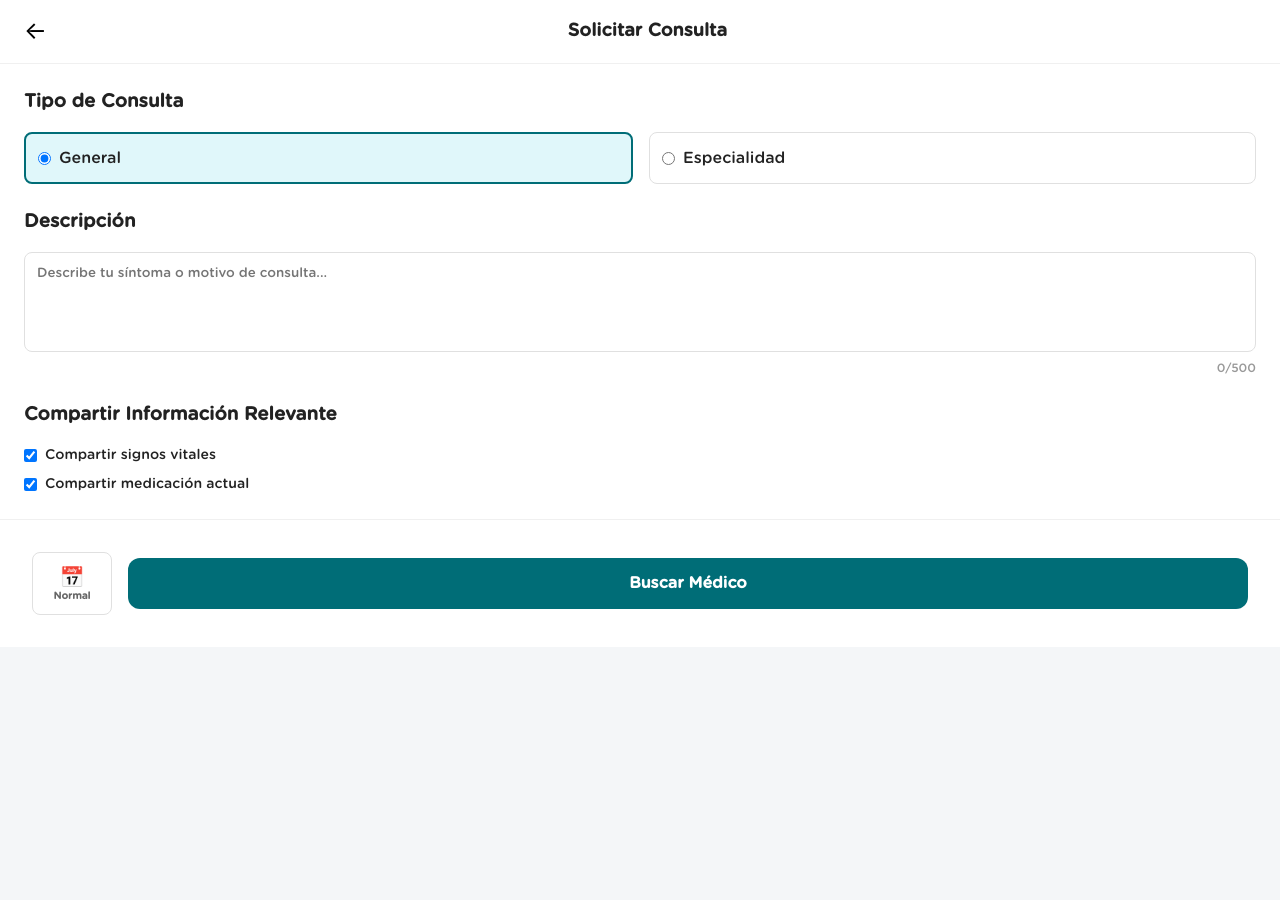
RequestConsult Component › shows specialty select when specialty type is selected
This screenshot has width=1280, height=900.
Click the radio button labelled "Especialidad" at (668, 158), box [662, 152, 675, 165]
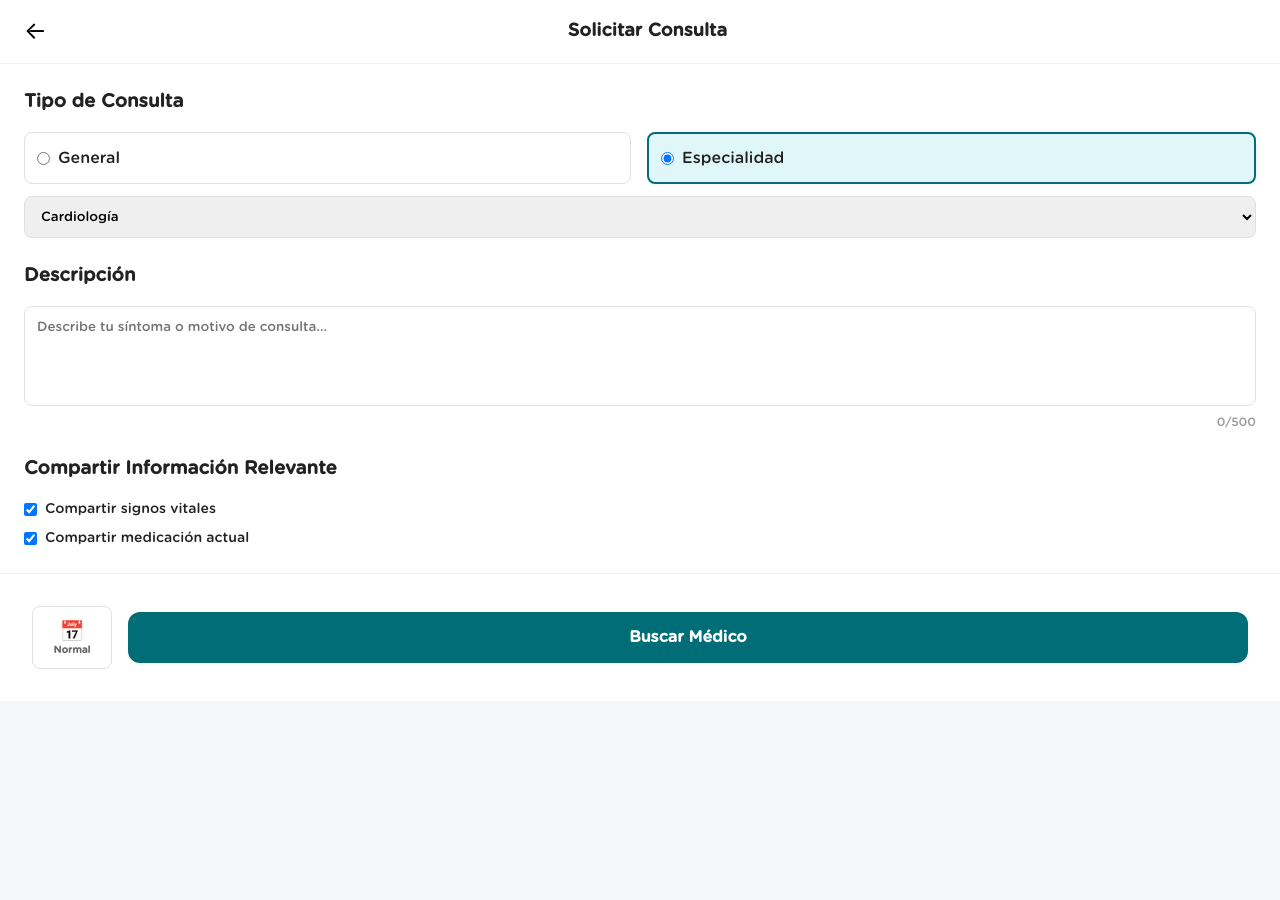
Expected: the dropdown is shown, [24, 196, 1256, 238]
